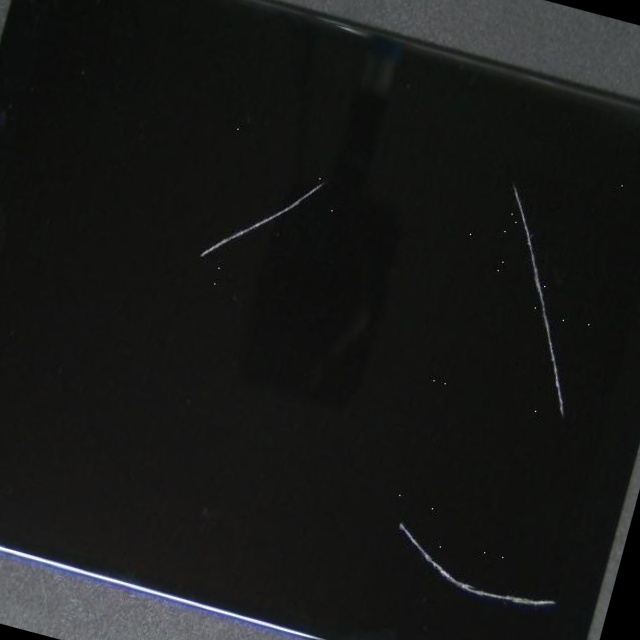scratch: (84, 174, 640, 640), (18, 25, 364, 447), (251, 17, 640, 287)
